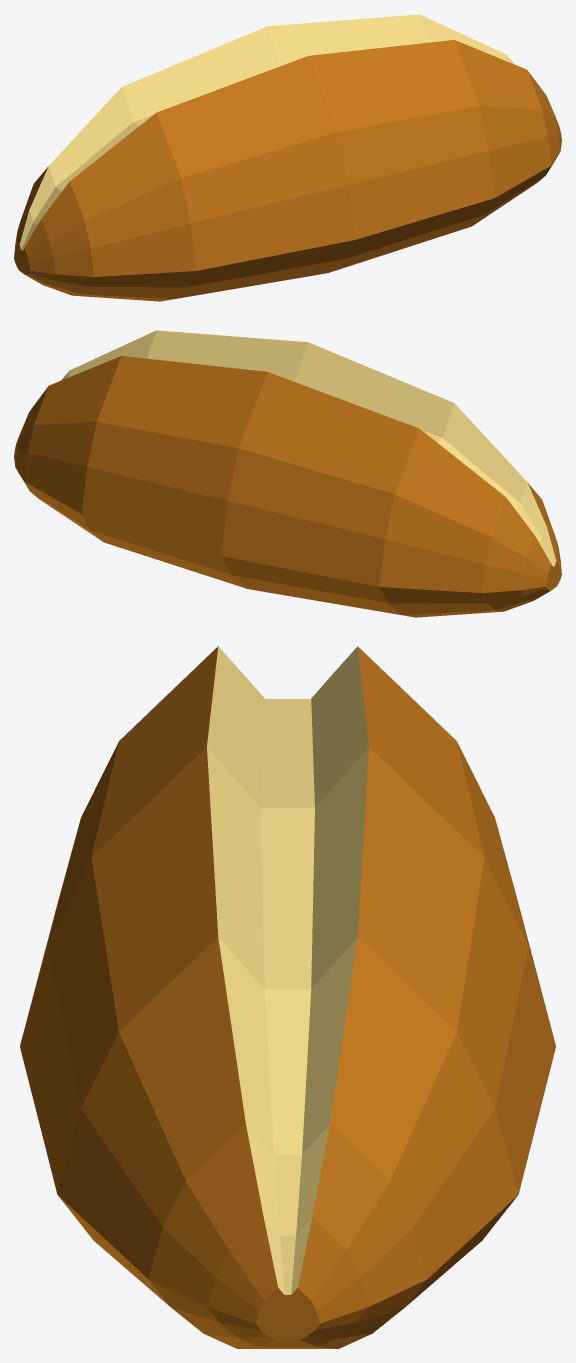
The model's file is SM_Cook_BanhMi_Plain_01.fbx.
The picture shows the model from 3 angles, top to bottom: view 1: azimuth 30°, elevation 25°; view 2: azimuth 150°, elevation 25°; view 3: azimuth 270°, elevation 25°; orthographic projection. The views are drawn at different scales.
Parts seen in each view (by area): view 1: SM_Cook_BanhMi_Plain_01; view 2: SM_Cook_BanhMi_Plain_01; view 3: SM_Cook_BanhMi_Plain_01.
Boxes of the visible parts, x1,y1,x2,y2 form: SM_Cook_BanhMi_Plain_01: (14, 14, 561, 301); SM_Cook_BanhMi_Plain_01: (14, 330, 561, 617); SM_Cook_BanhMi_Plain_01: (20, 646, 555, 1348).
Size of the model in its own units: 0.24 by 0.0934 by 0.1048.
Materials: 1 (1 with a texture image).
